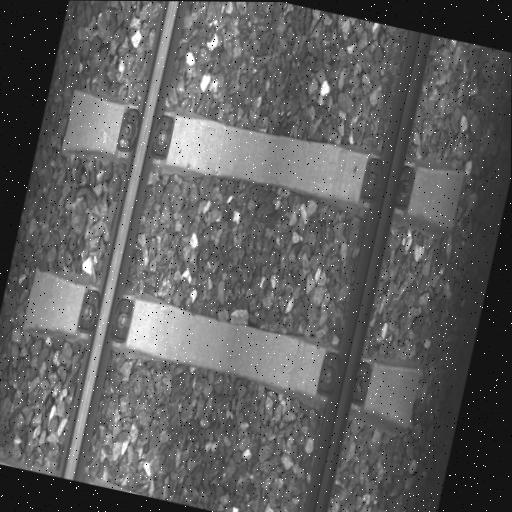sleeper: (15, 263, 428, 435), (60, 81, 467, 238)
